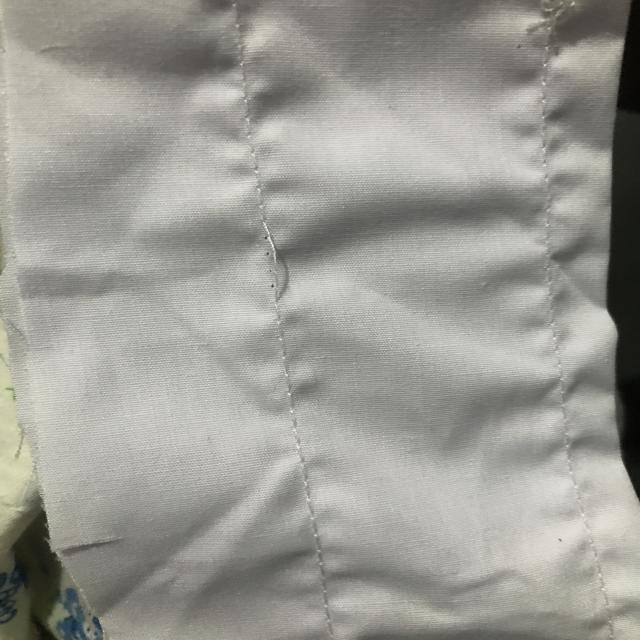good: (271, 412, 329, 537)
skip: (240, 203, 300, 310)
